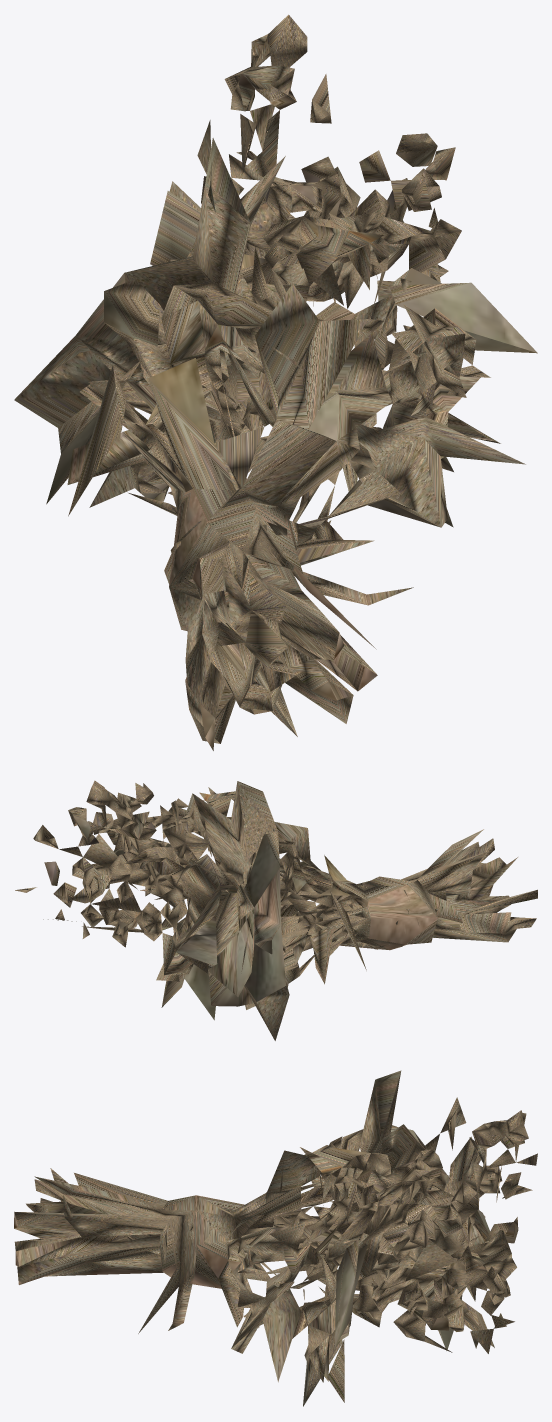
The picture shows the model from 3 angles, top to bottom: view 1: azimuth 30°, elevation 25°; view 2: azimuth 150°, elevation 25°; view 3: azimuth 270°, elevation 25°; orthographic projection. The views are drawn at different scales.
Visible parts, largest first — view 1: geometry_0; view 2: geometry_0; view 3: geometry_0.
Boxes of the visible parts, box(x1,y1,x2,y2) form: geometry_0: box(14, 14, 537, 750); geometry_0: box(15, 780, 537, 1040); geometry_0: box(14, 1070, 537, 1406).
Bounding box in the file's own units: 0.3056 × 0.2126 × 0.342.
1 material, 1 textured.
